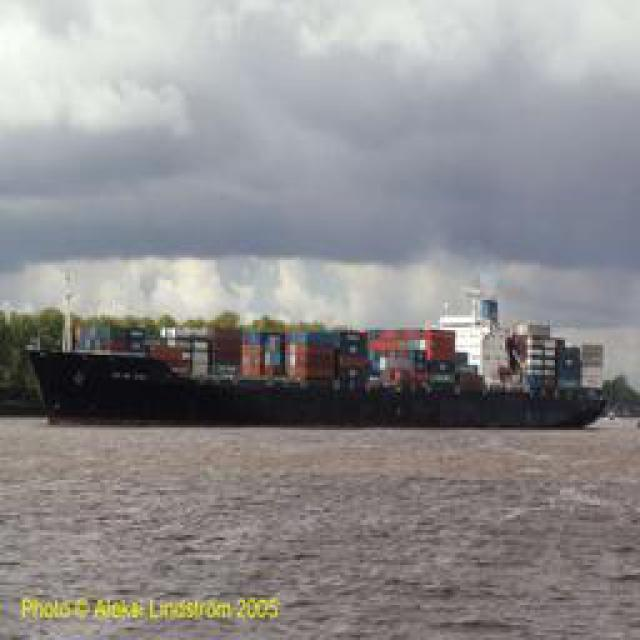Ship: (18, 300, 606, 430)
